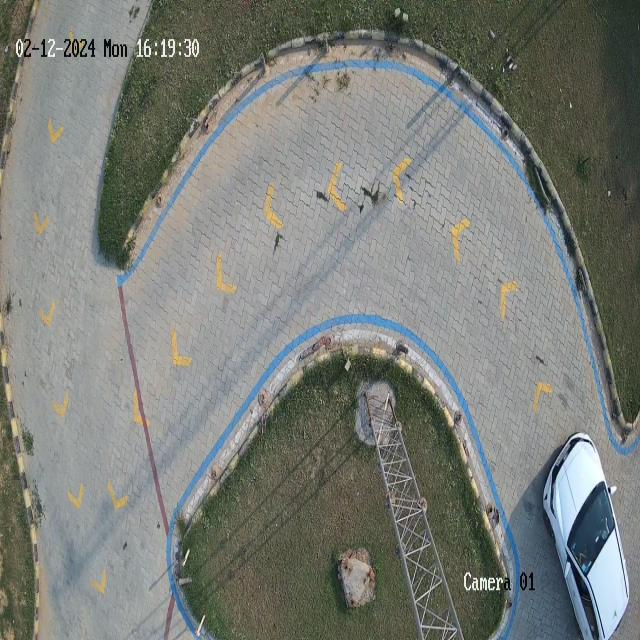car: (542, 431, 630, 640)
